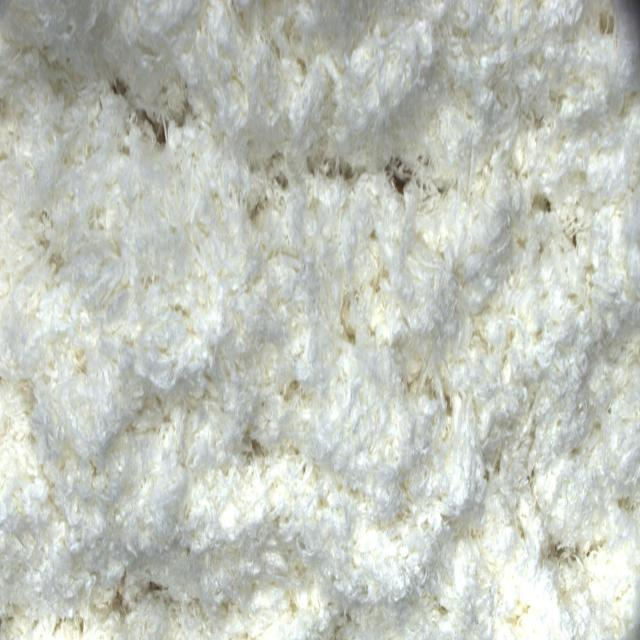dust: (137, 99, 174, 148), (386, 151, 409, 203)
